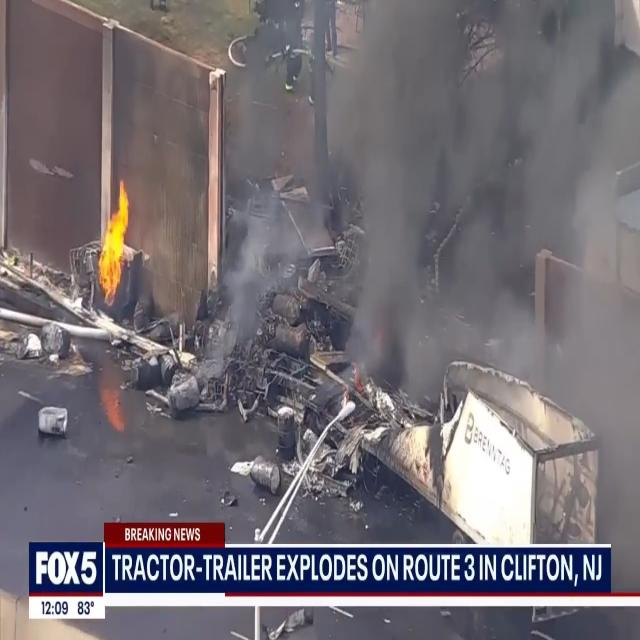fire: (94, 175, 135, 304)
